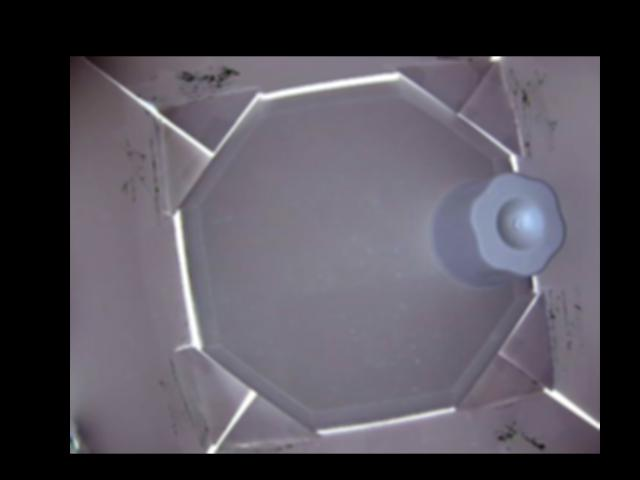Cup: (427, 173, 568, 285)
